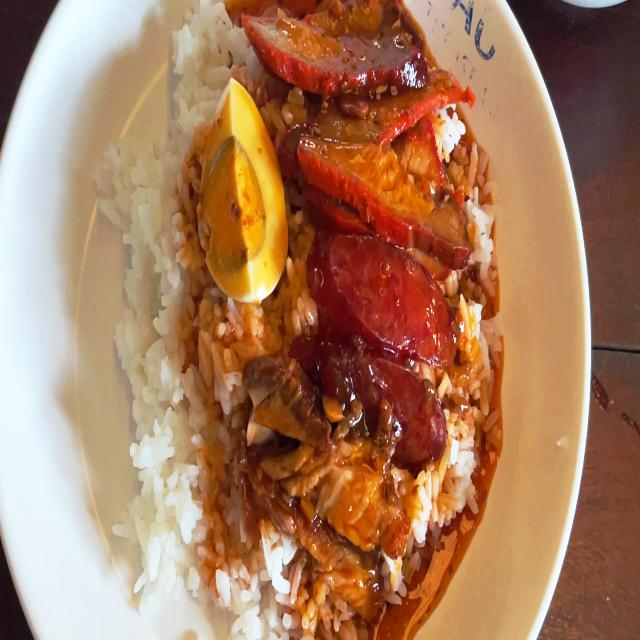boiled_egg: (204, 80, 283, 304)
chainese_sausage: (319, 248, 440, 433), (325, 240, 451, 353), (324, 344, 456, 450)
crispy_pork: (304, 483, 418, 610), (301, 426, 406, 543), (247, 358, 310, 543)
red_pork: (303, 126, 469, 251), (252, 14, 420, 89), (293, 68, 449, 132)
red_pork_and_crispy_pork: (128, 0, 482, 640)
rice: (137, 325, 251, 588), (112, 120, 201, 324), (174, 1, 243, 98)
